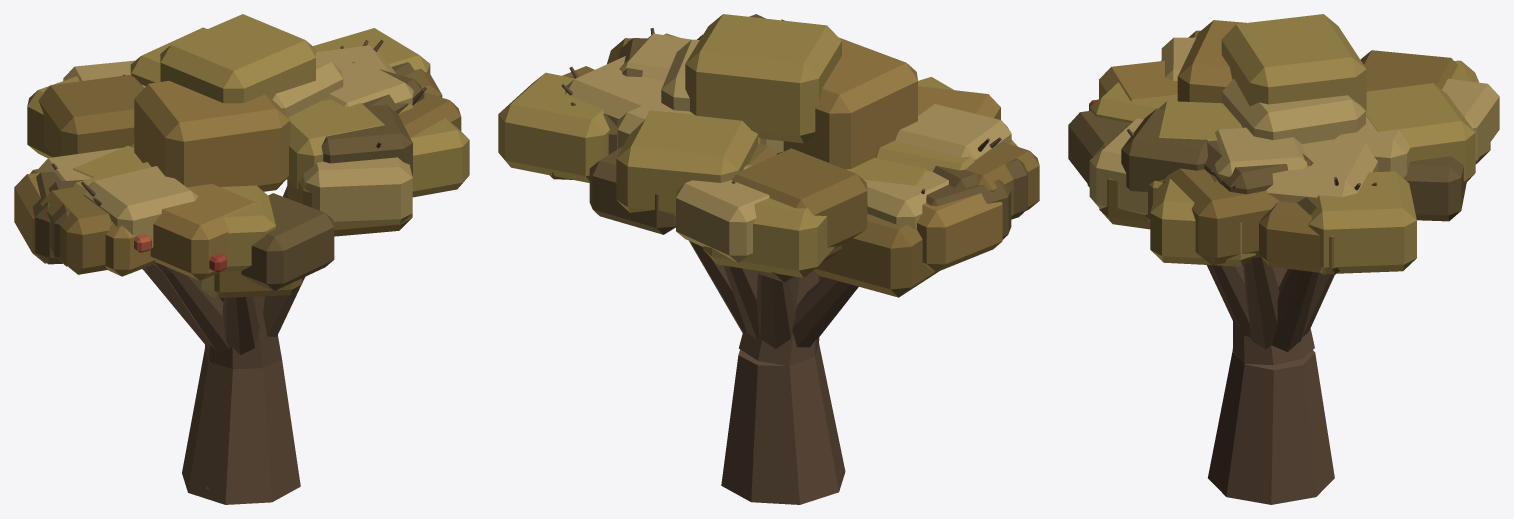
The model's file is apple_ancient_autumn_fruiting.glb.
3 views of the same model, side by side, from view 1: azimuth 30°, elevation 25°; view 2: azimuth 150°, elevation 25°; view 3: azimuth 270°, elevation 25° (orthographic). The views are drawn at different scales.
Visible parts, largest first — view 1: apple_ancient_autumn_fruiting; view 2: apple_ancient_autumn_fruiting; view 3: apple_ancient_autumn_fruiting.
Part boxes in pixels (bbox=[...]): apple_ancient_autumn_fruiting: bbox=[14, 14, 469, 504]; apple_ancient_autumn_fruiting: bbox=[498, 14, 1039, 504]; apple_ancient_autumn_fruiting: bbox=[1068, 14, 1499, 504].
Size of the model in its own units: 18.75 by 18 by 15.95.
